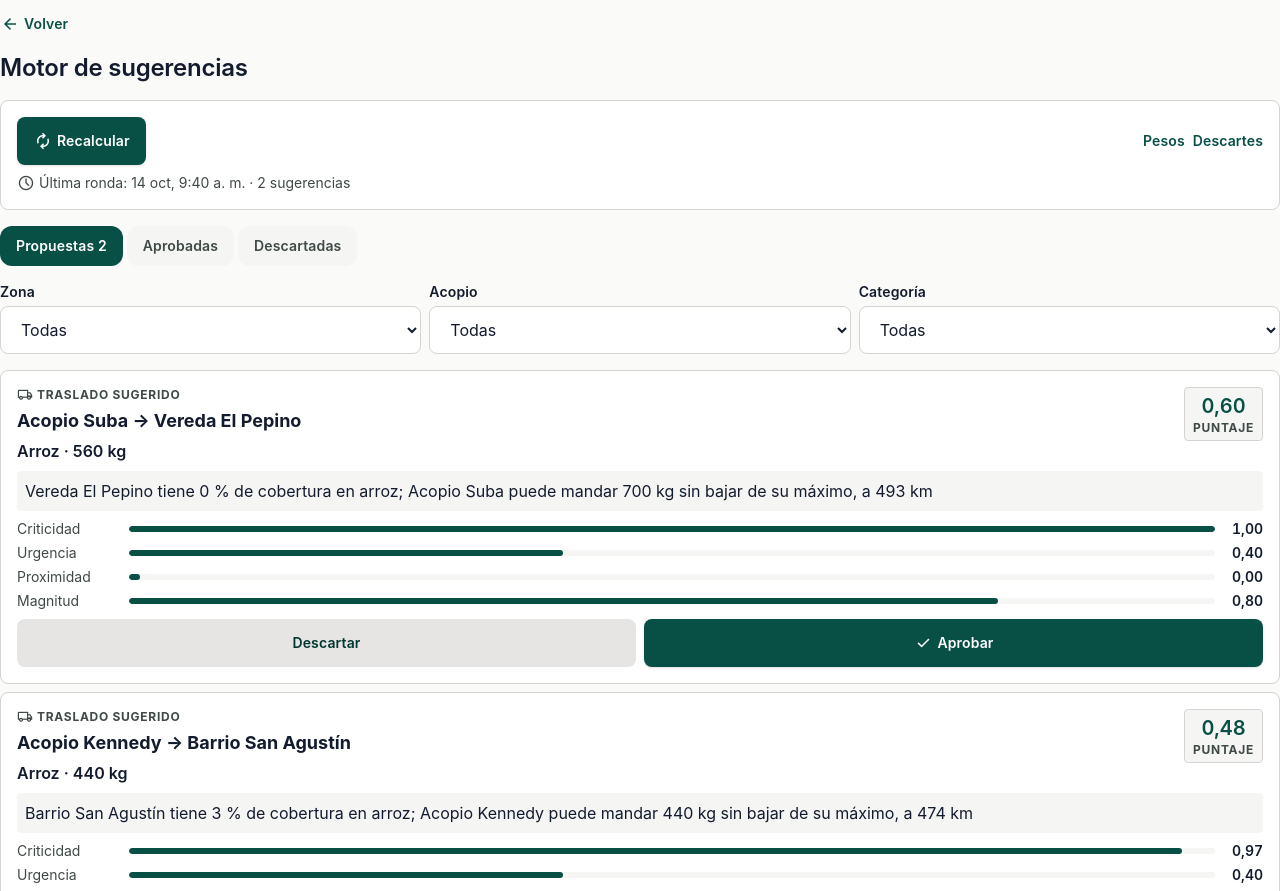
Scenario: recalcular pide una ronda nueva y dice cuántas sugerencias dejó
Expected: the text "Vereda El Pepino tiene 0 %" is shown, [25, 481, 933, 501]
Click the button "Recalcular": (81, 141) [17, 117, 146, 165]
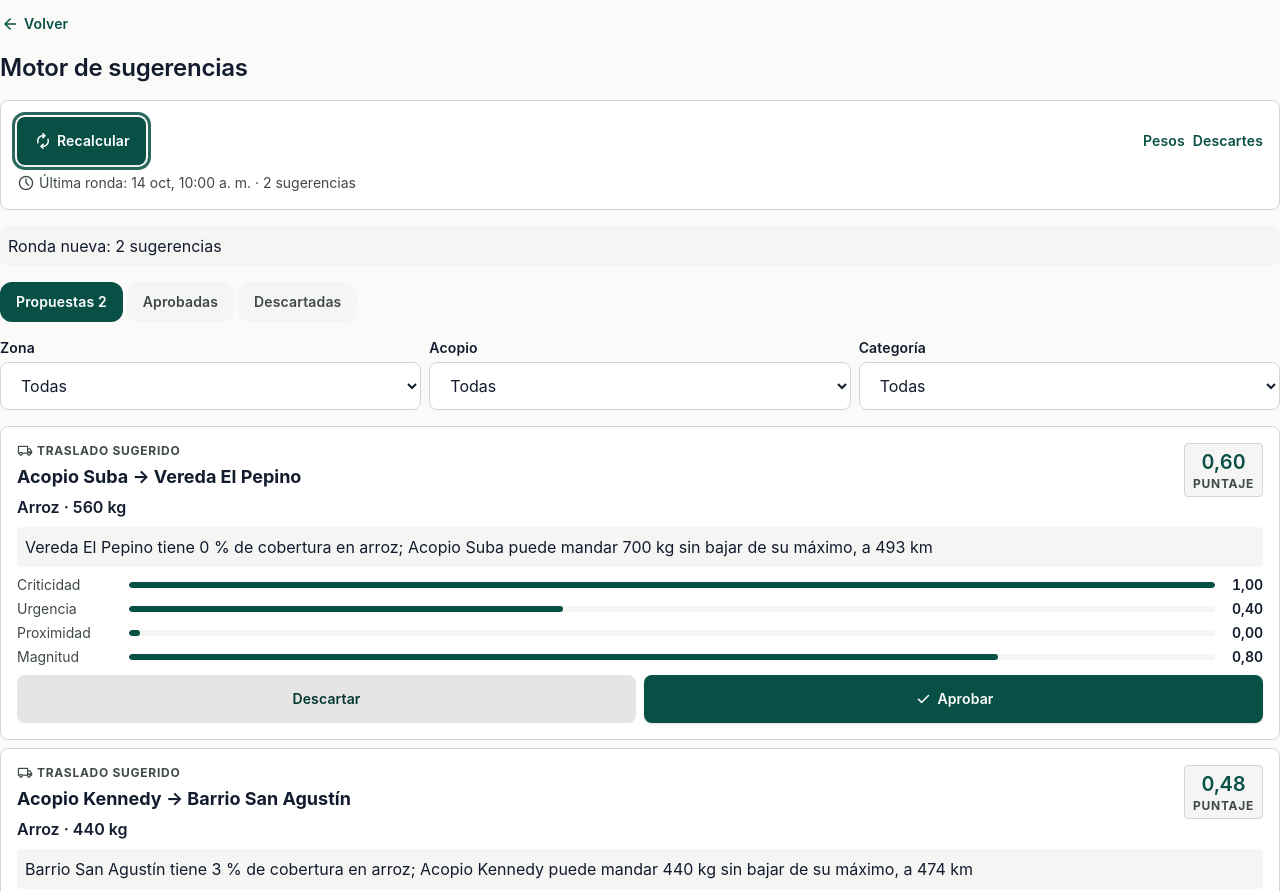
Result: the text "Ronda nueva: 2 sugerencias" is shown at [0, 226, 1279, 266]
